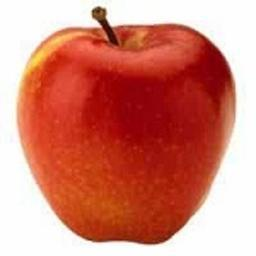apple: (15, 18, 234, 243)
